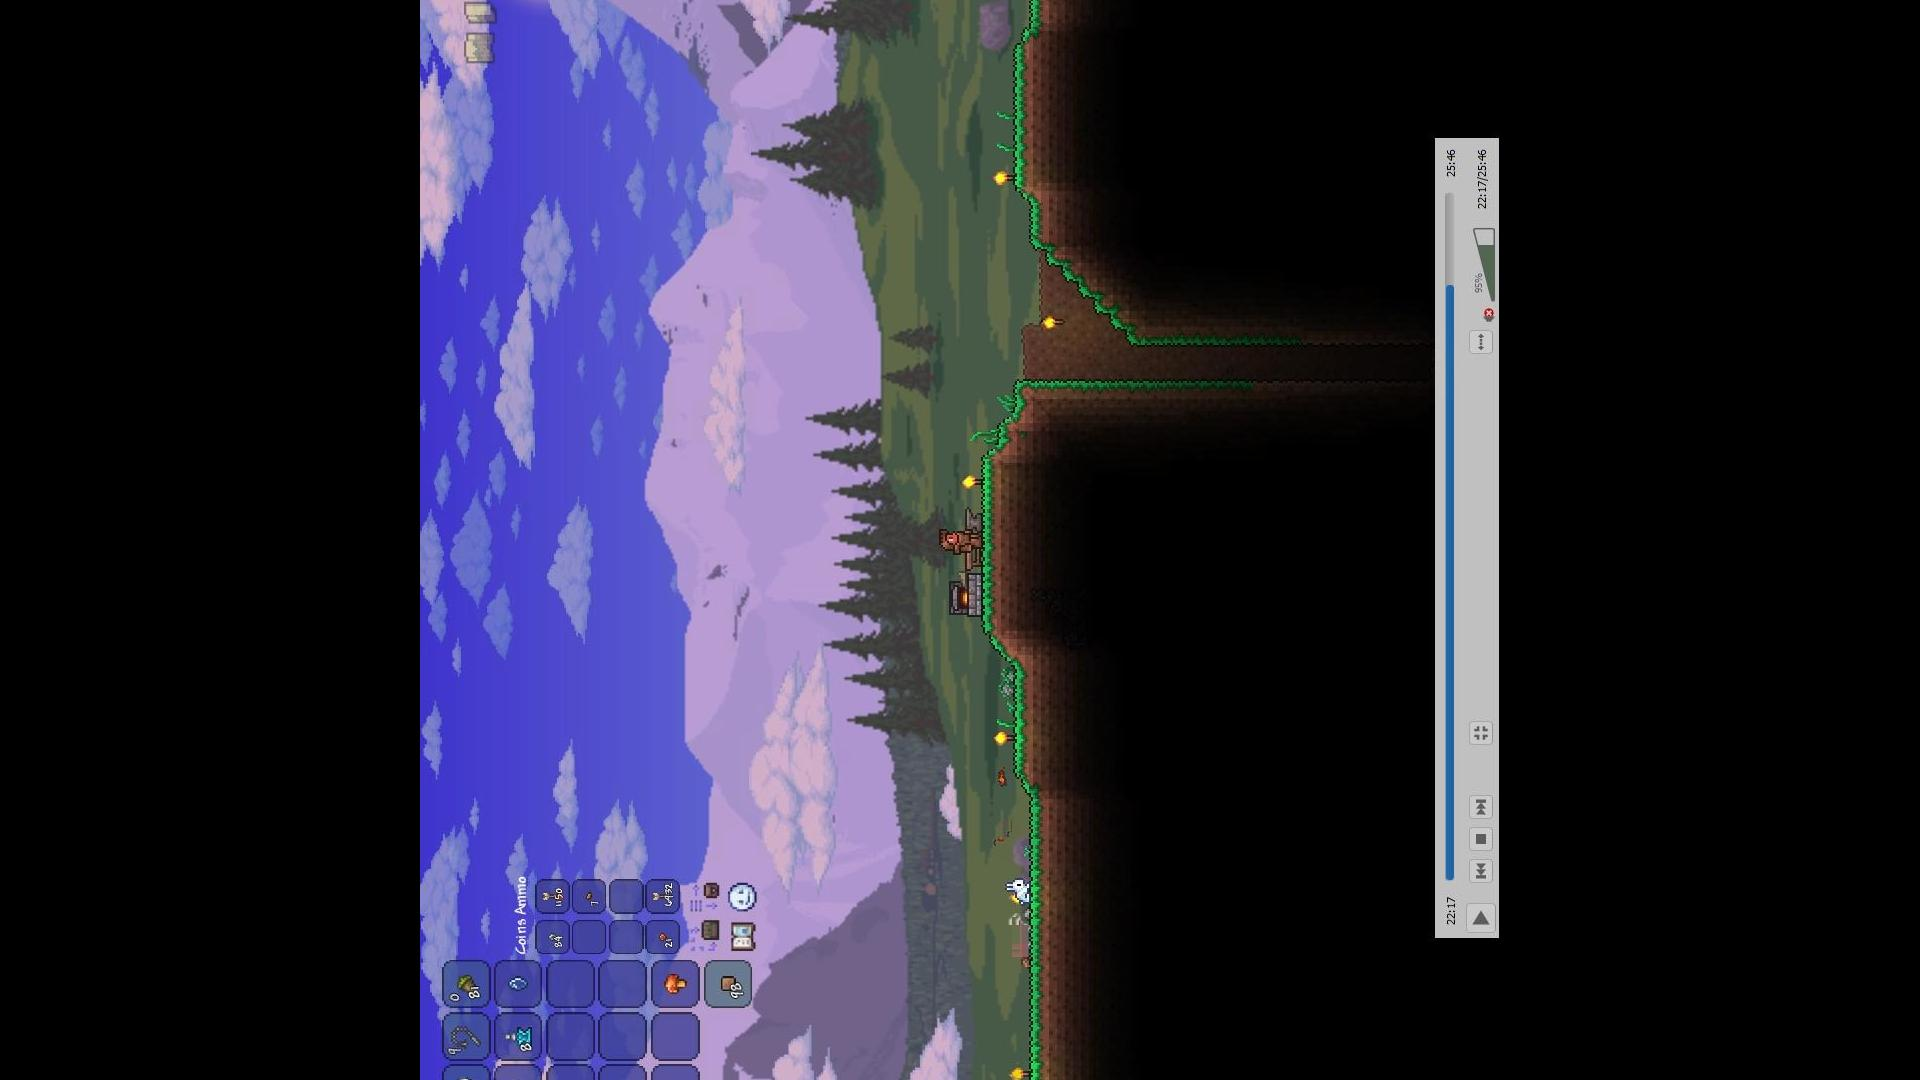anvil: (961, 504, 989, 531)
furnace: (945, 567, 986, 617)
recallP: (502, 1025, 535, 1047)
